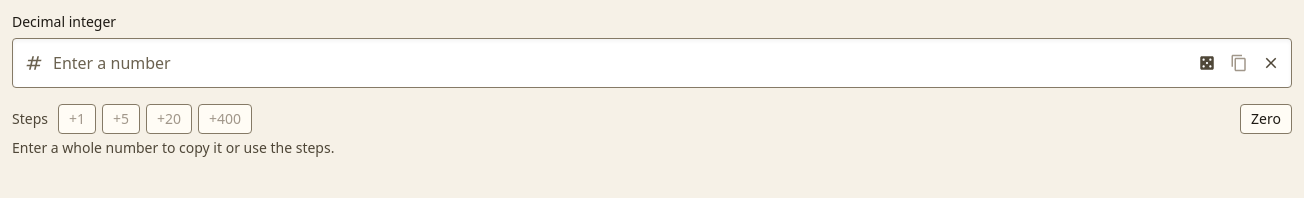
it: NumberInput › flags "abc" without stripping characters
In the field labelled "Decimal integer": (652, 63) 12,38 -> 1292,88, type "abc"
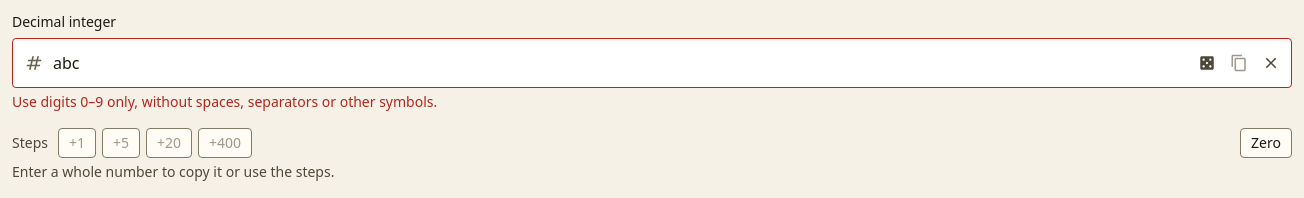
Check: the text with id "number-input-error" shows "Use digits", box 12,92 -> 437,111
